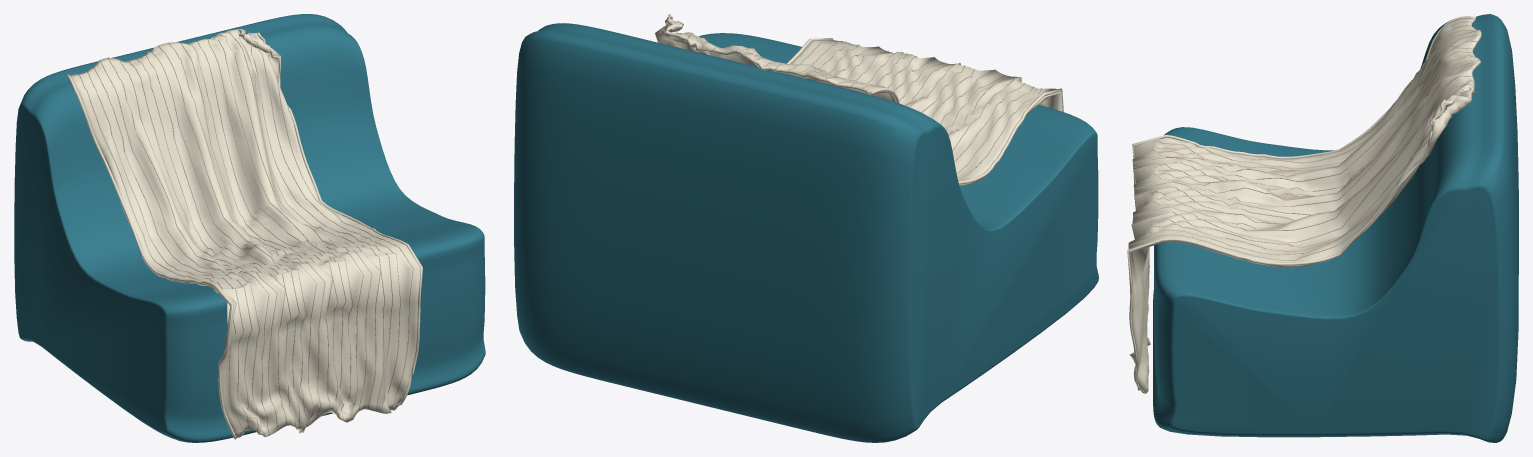
Rendered from numero-low.glb.
3 renders of one model, left to right at view 1: azimuth 30°, elevation 25°; view 2: azimuth 150°, elevation 25°; view 3: azimuth 270°, elevation 25°, orthographic. The views are drawn at different scales.
Visible parts, largest first — view 1: numero-low; view 2: numero-low; view 3: numero-low.
Boxes of the visible parts, x1=… form: numero-low: x1=14, y1=14, x2=485, y2=442; numero-low: x1=514, y1=14, x2=1098, y2=442; numero-low: x1=1127, y1=14, x2=1518, y2=442.
Bounding box in the file's own units: 0.762 × 0.6424 × 0.75.
